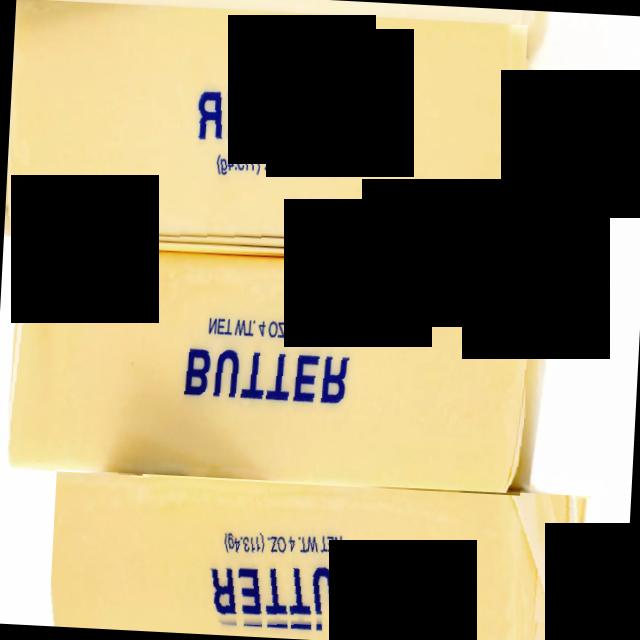butter: (4, 0, 528, 263), (3, 240, 532, 496), (49, 468, 591, 640)
